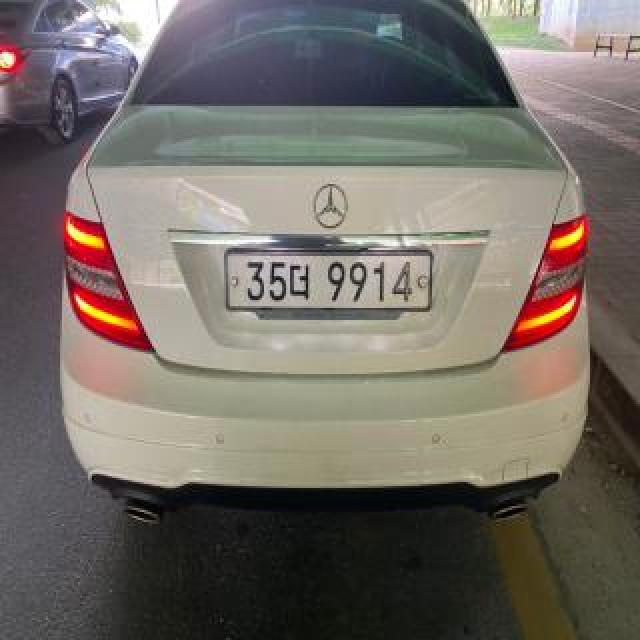car: (52, 0, 601, 527)
illegal_plate: (226, 245, 434, 323)
